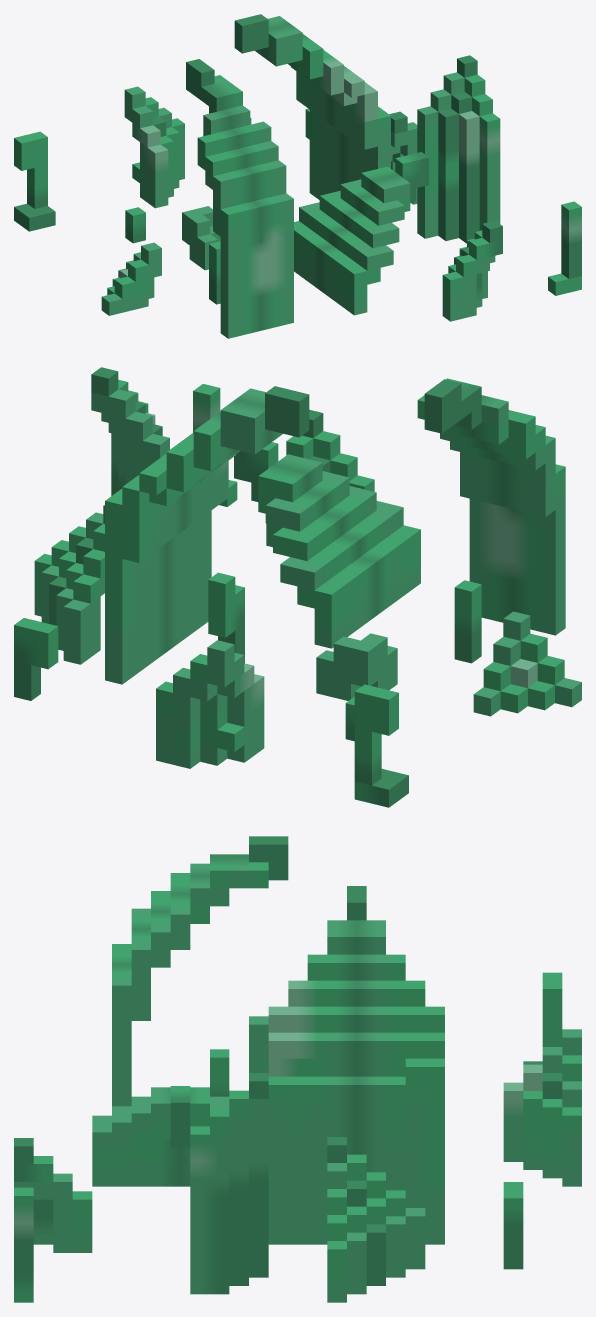
Rendered from leaves_big.fbx.
The picture shows the model from 3 angles, top to bottom: view 1: azimuth 30°, elevation 25°; view 2: azimuth 150°, elevation 25°; view 3: azimuth 270°, elevation 25°; orthographic projection. The views are drawn at different scales.
Visible parts, largest first — view 1: leaves_big; view 2: leaves_big; view 3: leaves_big.
Boxes of the visible parts, left/top/right/bottom form: leaves_big: left=14, top=14, right=581, bottom=338; leaves_big: left=14, top=367, right=581, bottom=807; leaves_big: left=14, top=836, right=581, bottom=1302.
Bounding box in the file's own units: 29 × 16 × 29.
Materials: 1 (1 with a texture image).
